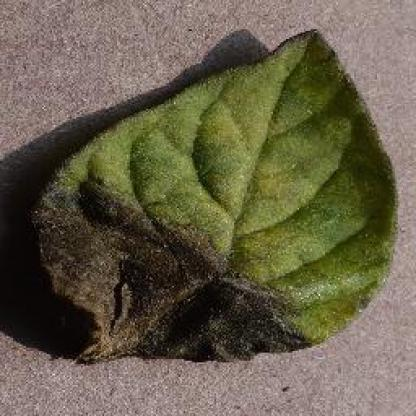bad leaf: (33, 192, 288, 359)
